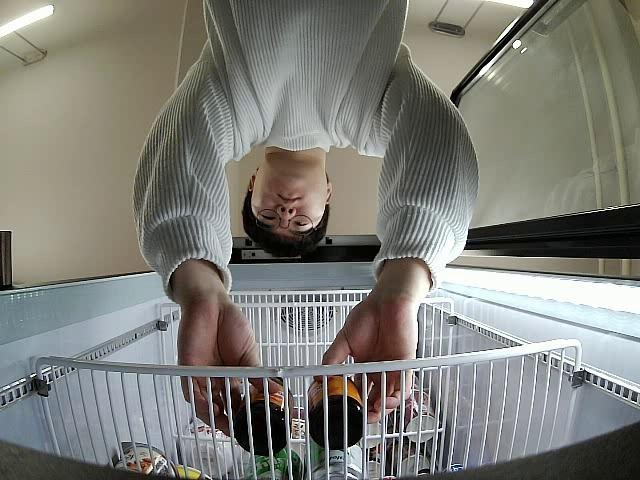17_vita500: (235, 366, 292, 458), (305, 374, 364, 450)
